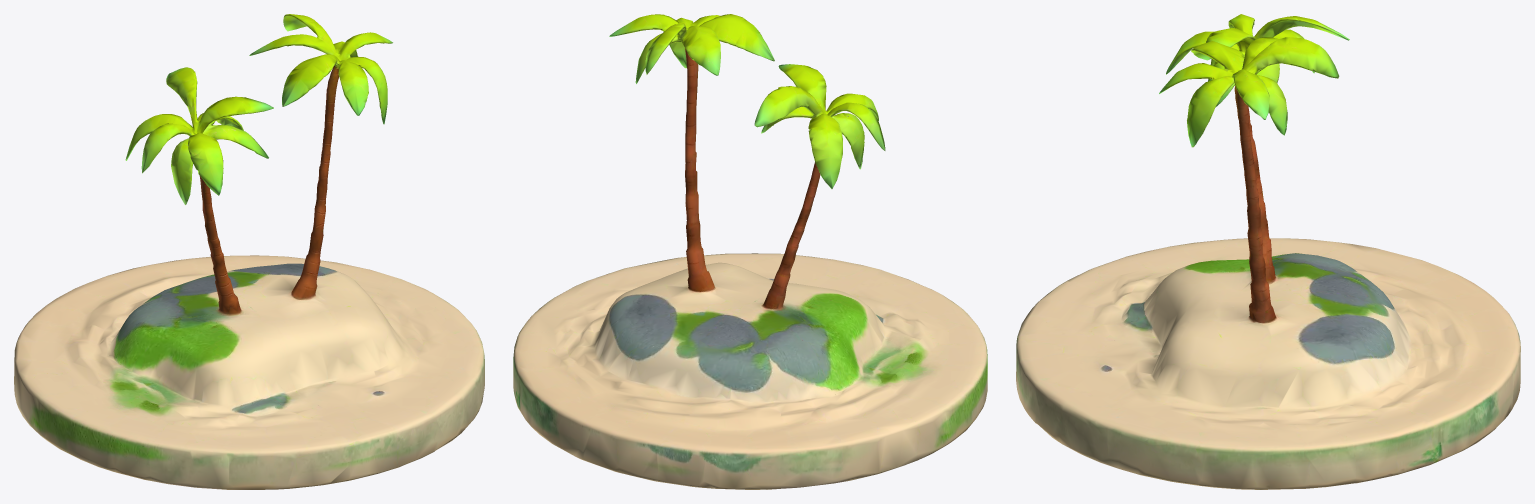
File: prop_island.glb
The picture shows the model from 3 angles, left to right: view 1: azimuth 30°, elevation 25°; view 2: azimuth 150°, elevation 25°; view 3: azimuth 270°, elevation 25°; orthographic projection. The views are drawn at different scales.
Bounding box in the file's own units: 1.91 × 1.59 × 1.91.
Materials: 1 (1 with a texture image).
